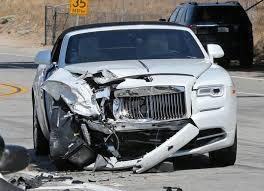bonnet-dent: (76, 59, 157, 83)
fender-dent: (41, 69, 89, 112)
front-bumper-dent: (70, 123, 213, 155)
